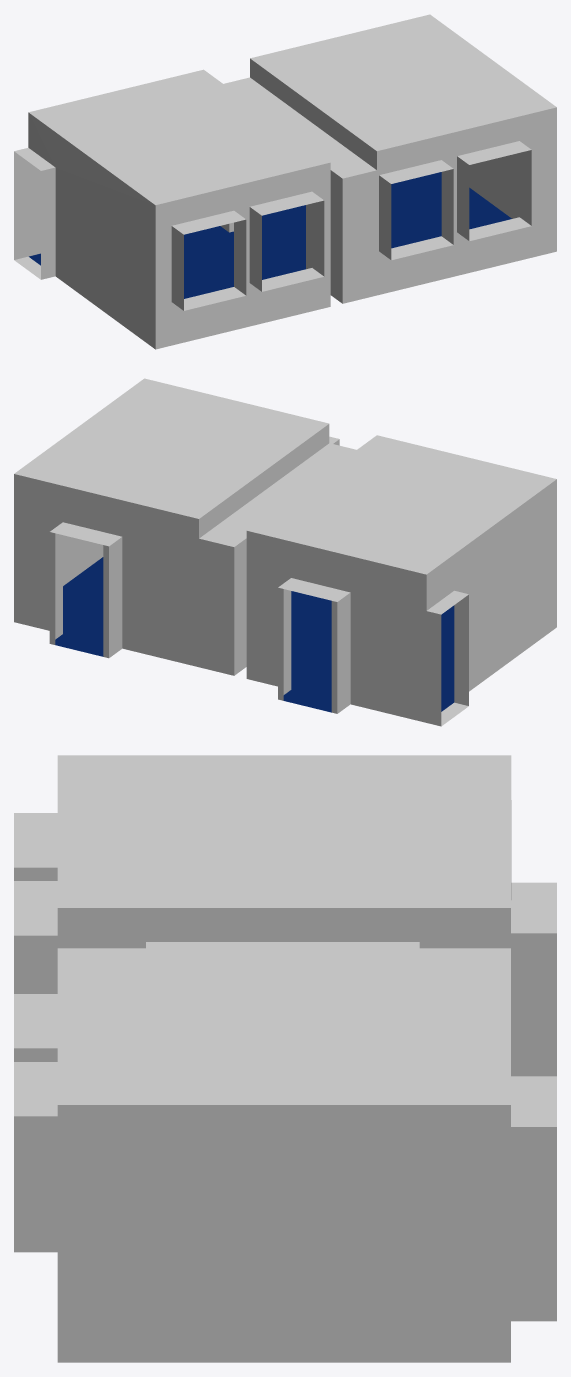
The model's file is patro2-A708.fbx.
3 views of the same model, one above another, from view 1: azimuth 30°, elevation 25°; view 2: azimuth 150°, elevation 25°; view 3: azimuth 270°, elevation 25° (orthographic). The views are drawn at different scales.
Visible parts, largest first — view 1: A708.Top, A708.Front, A708.Left, A708.Bottom, A708.Right, A708.Back; view 2: A708.Top, A708.Back, A708.Left, A708.Bottom, A708.Right, A708.Front; view 3: A708.Right, A708.Top.
Boxes of the visible parts, x1,y1,x2,y2 form: A708.Top: (14,14,556,234); A708.Front: (41,107,556,349); A708.Left: (28,58,469,349); A708.Bottom: (14,172,531,310); A708.Right: (220,150,531,295); A708.Back: (14,151,233,259); A708.Top: (14,378,556,614); A708.Back: (14,474,441,726); A708.Left: (109,424,556,713); A708.Bottom: (55,557,468,726); A708.Right: (55,533,291,694); A708.Front: (454,594,468,705); A708.Right: (14,867,556,1362); A708.Top: (14,755,556,1126).
Bounding box in the file's own units: 800 × 265 × 506.
